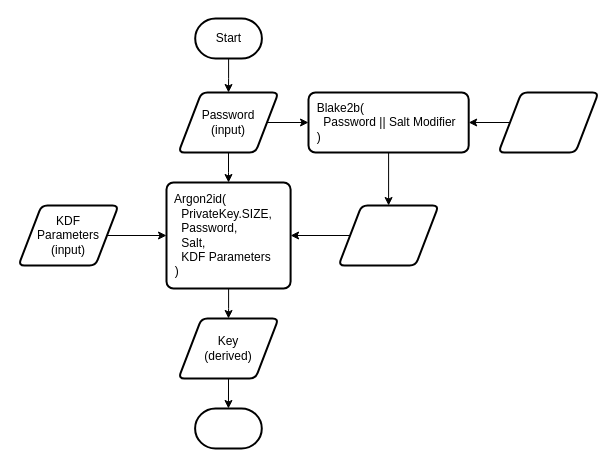
The diagram is 616 pixels wide and 466 high, and some of its shapes have lost their labels. Here are the shapes that lost their labels. From the top down, the centre of each, then its label:
At pixel 548 122: "Salt Modifier (constant)".
At pixel 388 235: "Salt (derived)".
At pixel 228 428: "End".
